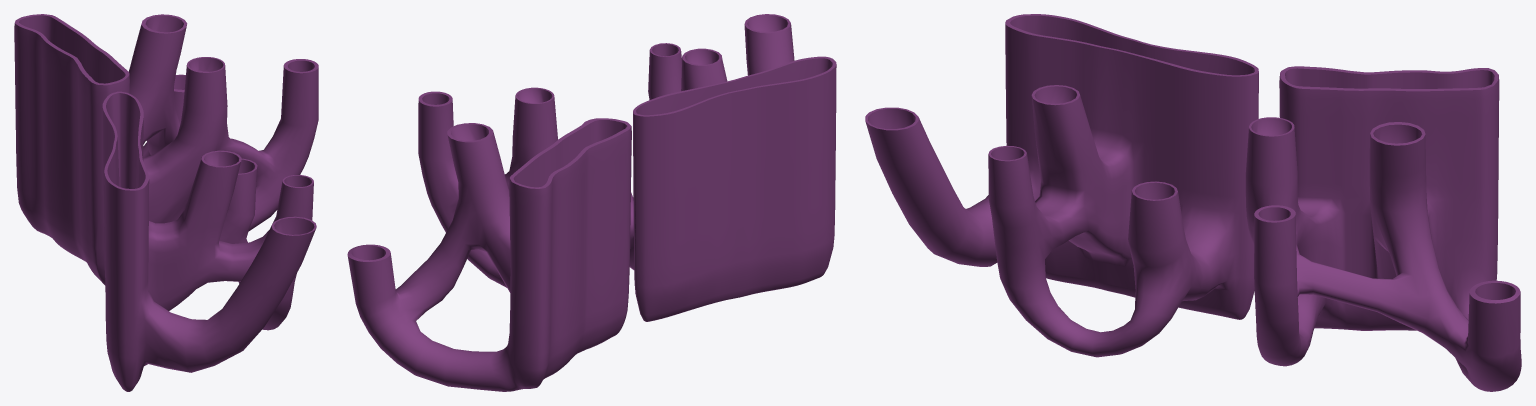
File: Smooth_Endoplasmic_Reticulum.obj
The picture shows the model from 3 angles, left to right: view 1: azimuth 30°, elevation 25°; view 2: azimuth 150°, elevation 25°; view 3: azimuth 270°, elevation 25°; orthographic projection. The views are drawn at different scales.
Visible parts, largest first — view 1: Smooth_Endoplasmic_Reticulum Cell Smooth_Endoplasmic_Reticulum, Smooth_Endoplasmic_Reticulum2 Smooth_Endoplasmic_Reticulum Cell; view 2: Smooth_Endoplasmic_Reticulum Cell Smooth_Endoplasmic_Reticulum, Smooth_Endoplasmic_Reticulum2 Smooth_Endoplasmic_Reticulum Cell; view 3: Smooth_Endoplasmic_Reticulum2 Smooth_Endoplasmic_Reticulum Cell, Smooth_Endoplasmic_Reticulum Cell Smooth_Endoplasmic_Reticulum.
Boxes of the visible parts, x1,y1,x2,y2 form: Smooth_Endoplasmic_Reticulum Cell Smooth_Endoplasmic_Reticulum: (14,14,318,285); Smooth_Endoplasmic_Reticulum2 Smooth_Endoplasmic_Reticulum Cell: (102,91,316,391); Smooth_Endoplasmic_Reticulum Cell Smooth_Endoplasmic_Reticulum: (347,87,631,391); Smooth_Endoplasmic_Reticulum2 Smooth_Endoplasmic_Reticulum Cell: (582,14,836,321); Smooth_Endoplasmic_Reticulum2 Smooth_Endoplasmic_Reticulum Cell: (865,14,1258,357); Smooth_Endoplasmic_Reticulum Cell Smooth_Endoplasmic_Reticulum: (1245,66,1521,391).
Bounding box in the file's own units: 34.79 × 23.67 × 54.27.
